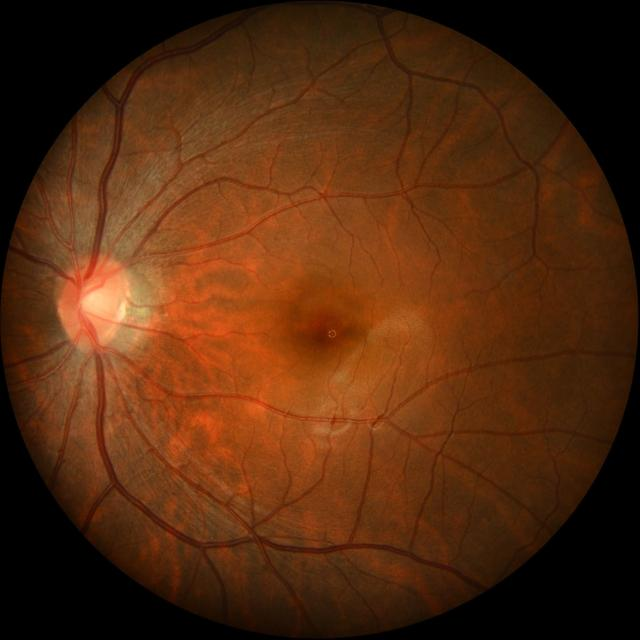OC: (78, 284, 109, 322)
OD: (59, 260, 130, 346)
